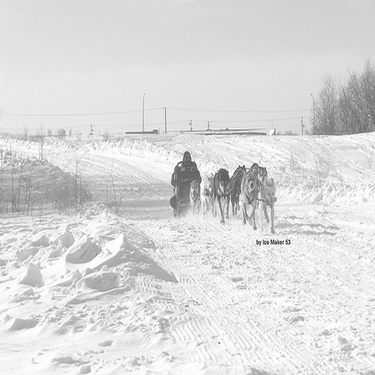dog: (243, 169, 263, 232), (213, 169, 231, 228), (262, 175, 278, 236), (230, 163, 248, 213), (186, 177, 202, 217), (203, 171, 216, 216), (248, 158, 261, 187), (260, 167, 268, 194)
